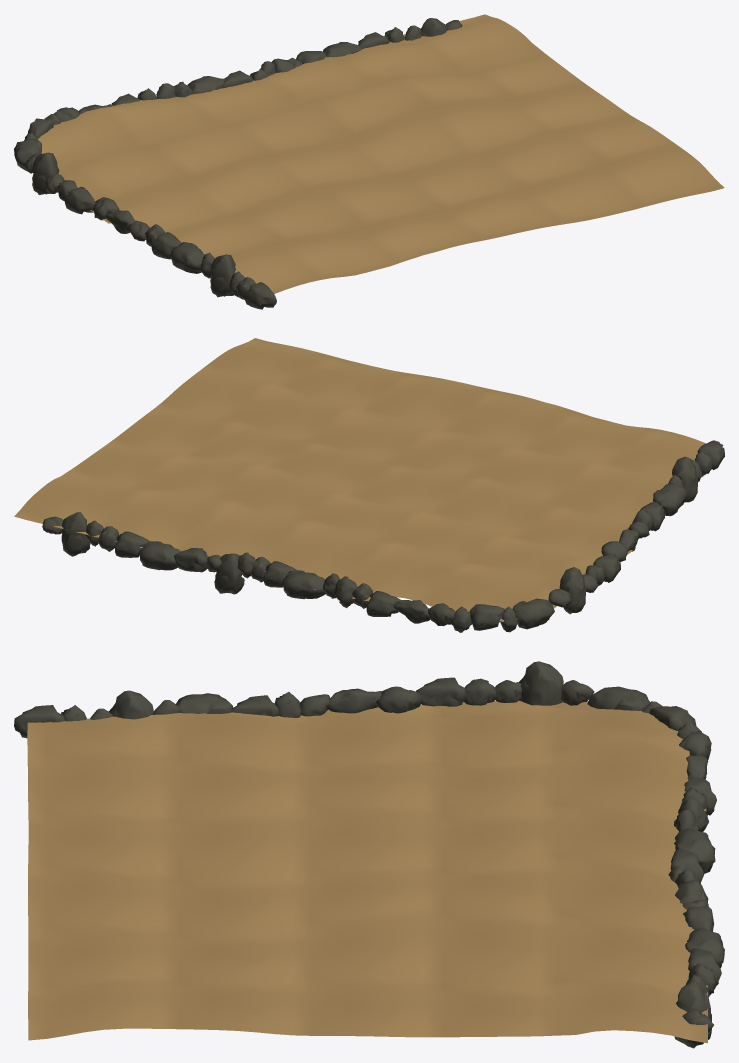
The model's file is big_ground_02.fbx.
3 renders of one model, top to bottom at view 1: azimuth 30°, elevation 25°; view 2: azimuth 150°, elevation 25°; view 3: azimuth 270°, elevation 25°, orthographic. The views are drawn at different scales.
Visible parts, largest first — view 1: polySurface_big_ground_02; view 2: polySurface_big_ground_02; view 3: polySurface_big_ground_02.
Boxes of the visible parts, <box> form: polySurface_big_ground_02: <box>14,14,724,309</box>; polySurface_big_ground_02: <box>14,338,724,632</box>; polySurface_big_ground_02: <box>14,661,724,1048</box>.
Size of the model in its own units: 273 by 29.82 by 233.
